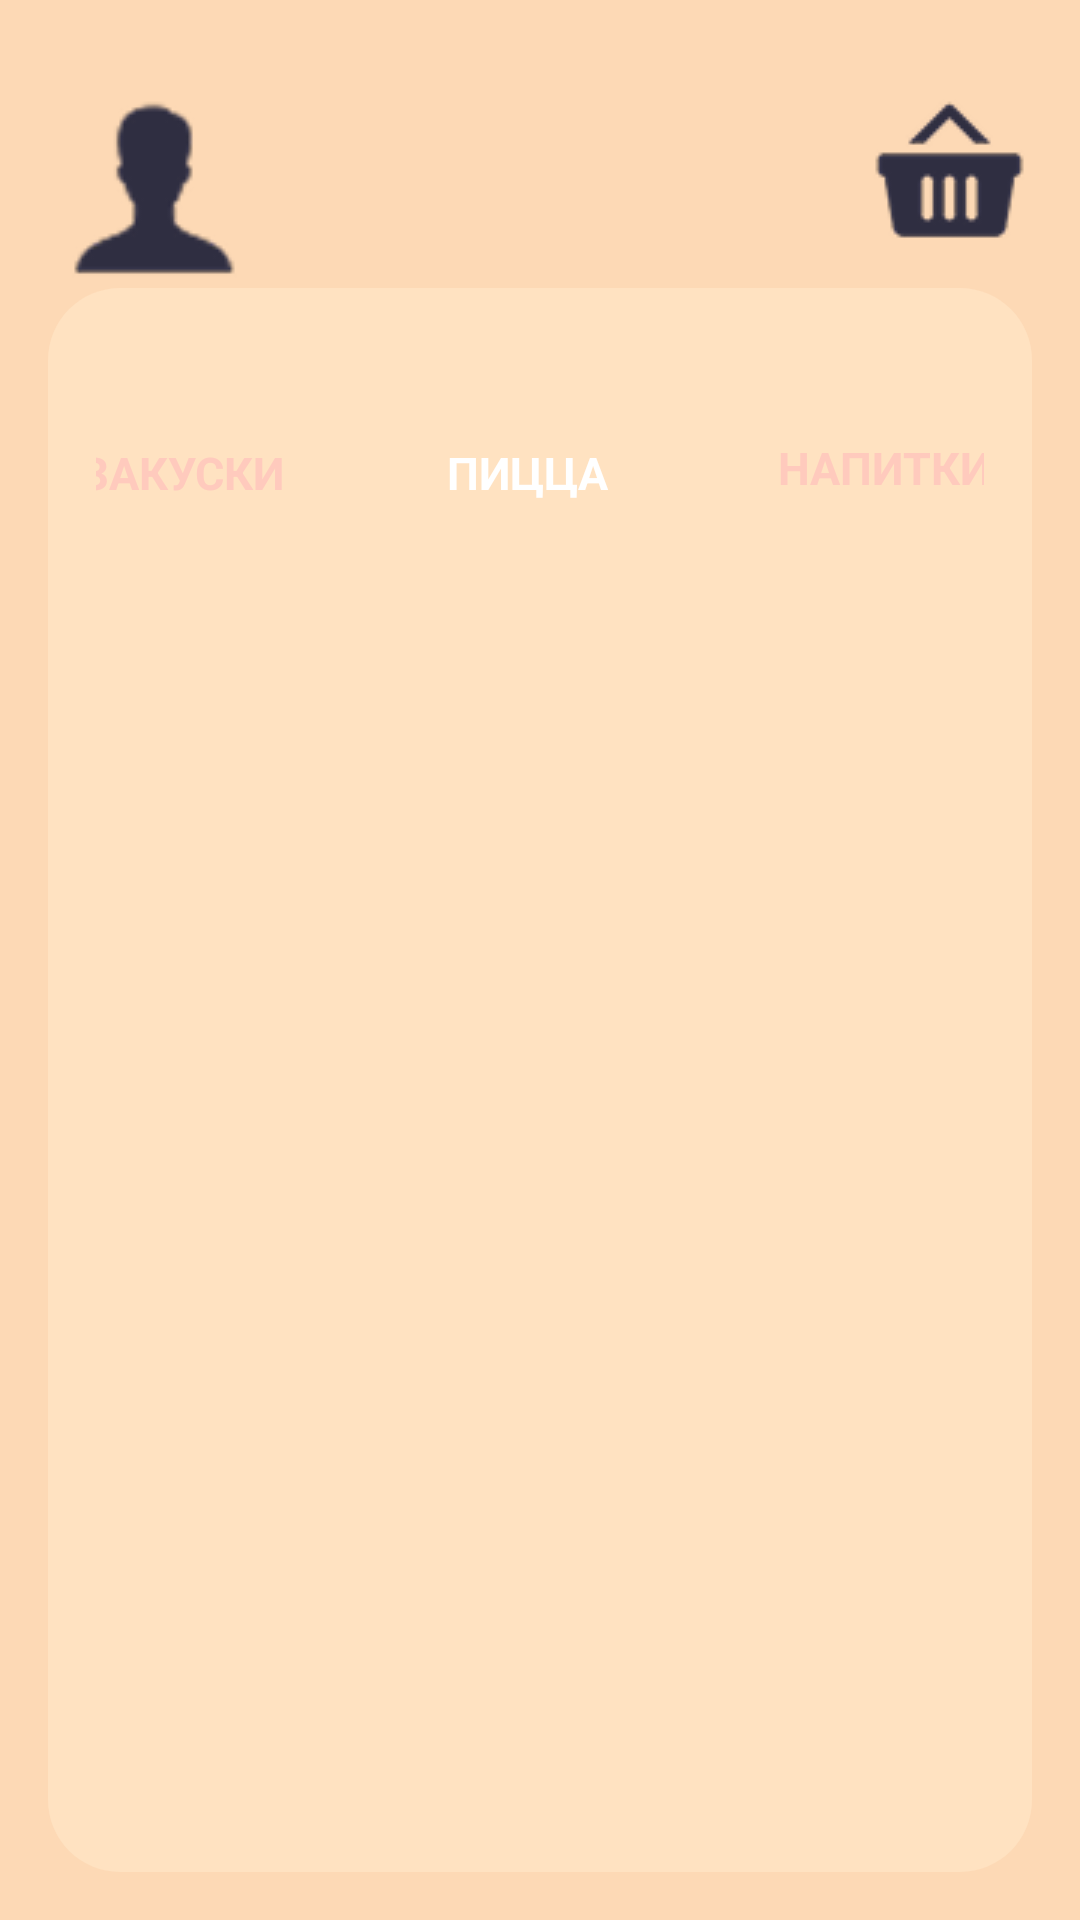

Icons on this 1080 × 1920 Android screen, each with the point to tap as [x,y]:
cart: [949,170]
